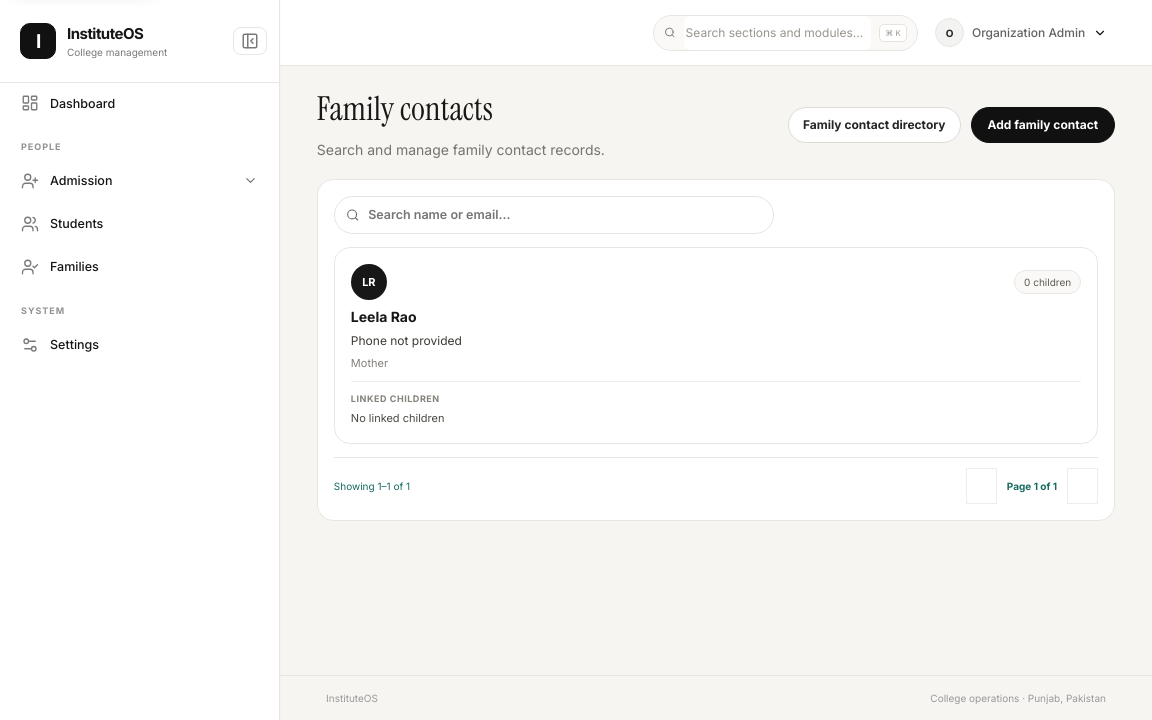
Test case: family and parent relationship pages › searches the server-backed family contact directory
Expected: the link "Leela Rao" is shown, [334, 247, 1098, 444]
Type "unknown" into the search field named "Search family contacts".
click(564, 215); type("unknown")  # box [366, 197, 762, 233]
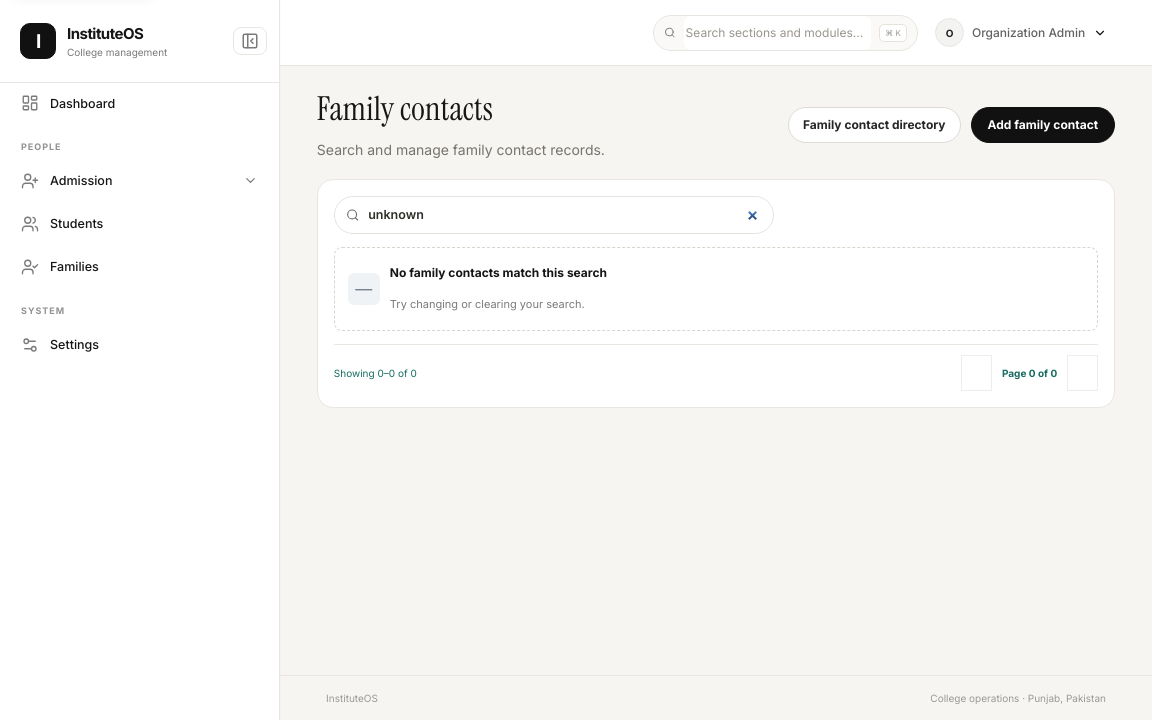
Expected: the heading "No family contacts match this search" is shown, [390, 265, 607, 280]
